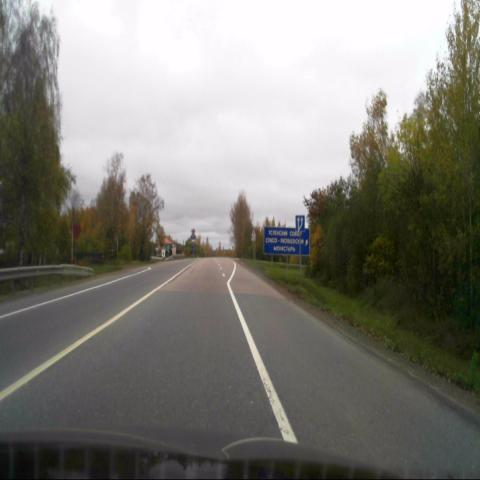5_15_3: (295, 215, 305, 231)
